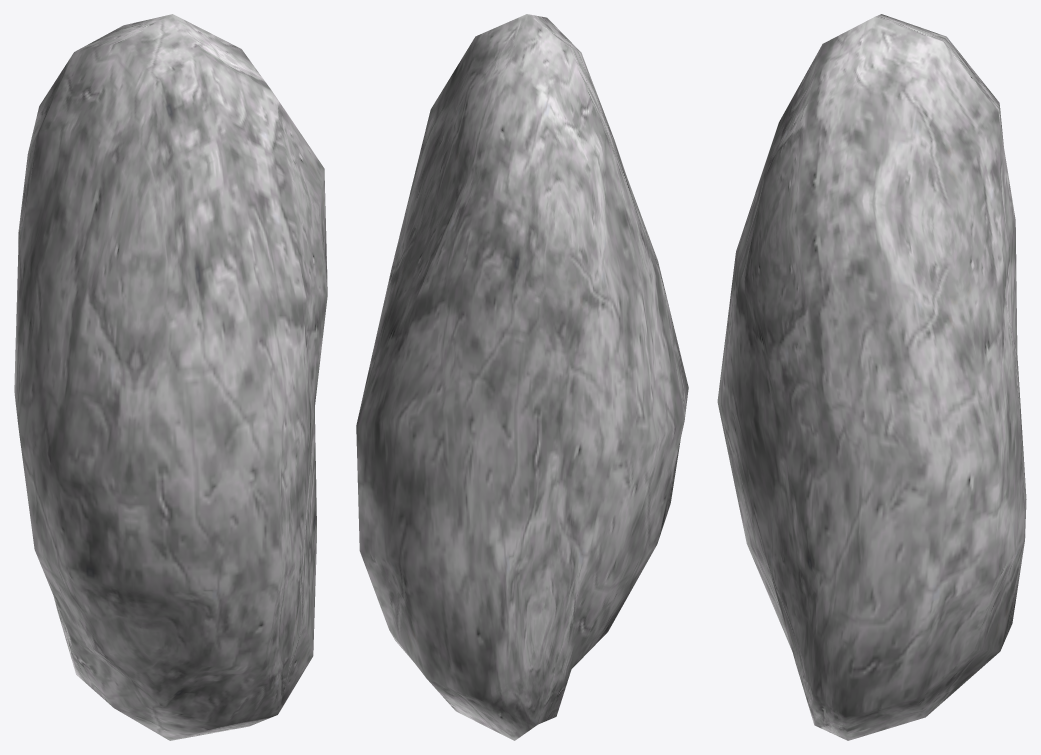
File: INST_TROLLHOLE_ROCKB.fbx
3 views of the same model, side by side, from view 1: azimuth 30°, elevation 25°; view 2: azimuth 150°, elevation 25°; view 3: azimuth 270°, elevation 25° (orthographic). The views are drawn at different scales.
Parts seen in each view (by area): view 1: INST_TROLLHOLE_ROCKB; view 2: INST_TROLLHOLE_ROCKB; view 3: INST_TROLLHOLE_ROCKB.
Part boxes in pixels (box(x1,y1,x2,y2)): INST_TROLLHOLE_ROCKB: box(14, 14, 327, 740); INST_TROLLHOLE_ROCKB: box(356, 14, 688, 740); INST_TROLLHOLE_ROCKB: box(717, 14, 1026, 740).
Size of the model in its own units: 20412 by 50960 by 20412.
1 material, 1 textured.
